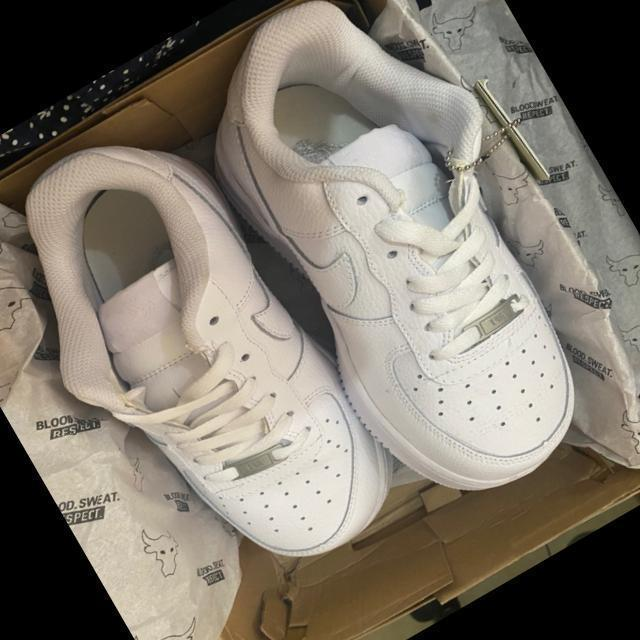nike fake air force: (162, 0, 640, 533), (0, 53, 420, 627)
